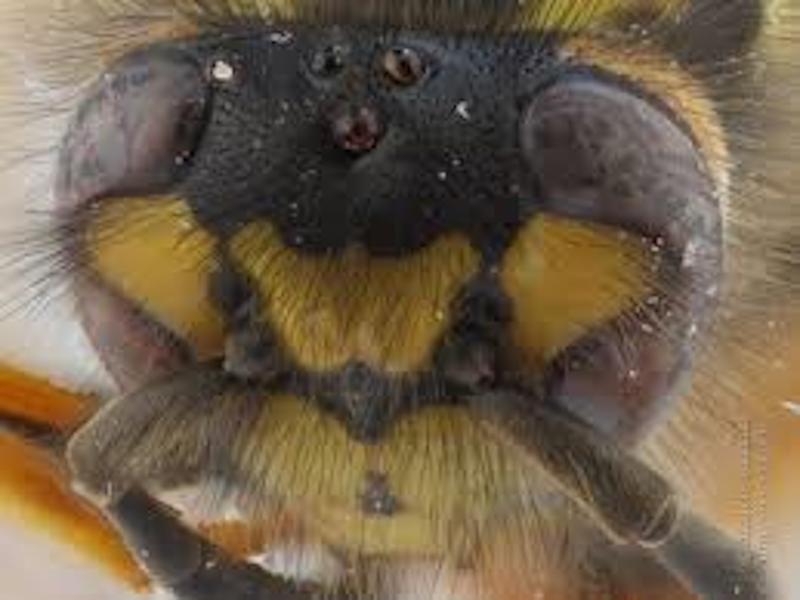chax: (11, 1, 800, 596)
